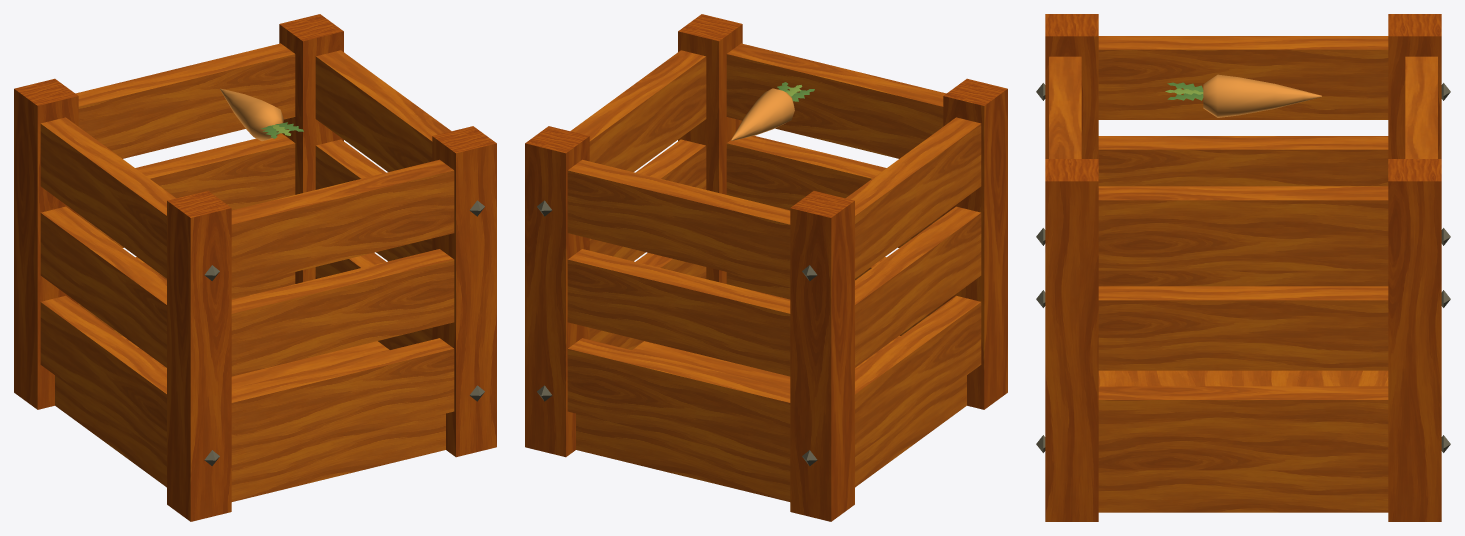
File: farm-collection-box-1.gltf
The picture shows the model from 3 angles, left to right: view 1: azimuth 30°, elevation 25°; view 2: azimuth 150°, elevation 25°; view 3: azimuth 270°, elevation 25°; orthographic projection. The views are drawn at different scales.
Parts seen in each view (by area): view 1: farm-collection-box-1; view 2: farm-collection-box-1; view 3: farm-collection-box-1.
Boxes of the visible parts, x1,y1,x2,y2 form: farm-collection-box-1: (14,14,496,521); farm-collection-box-1: (525,14,1007,521); farm-collection-box-1: (1036,14,1450,521).
Size of the model in its own units: 0.8002 by 0.8041 by 0.8382.
Materials: 2 (1 with a texture image).
